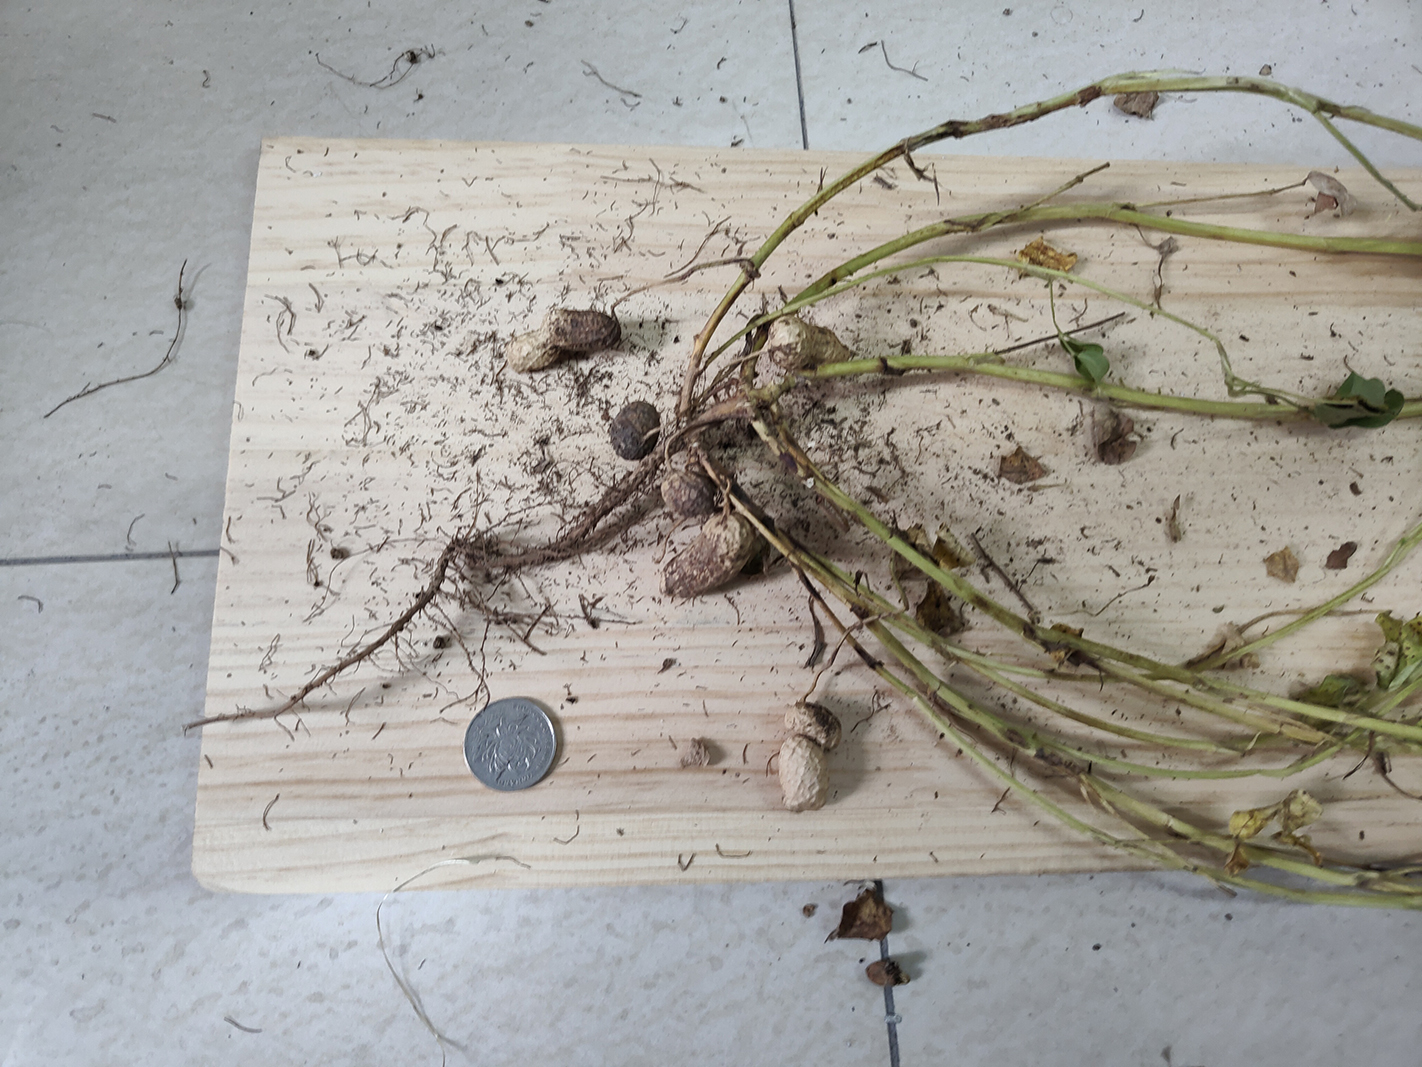h: (777, 703, 842, 813), (769, 316, 856, 367)
l: (666, 512, 756, 599), (506, 306, 619, 371), (608, 402, 660, 460), (661, 473, 715, 514)
